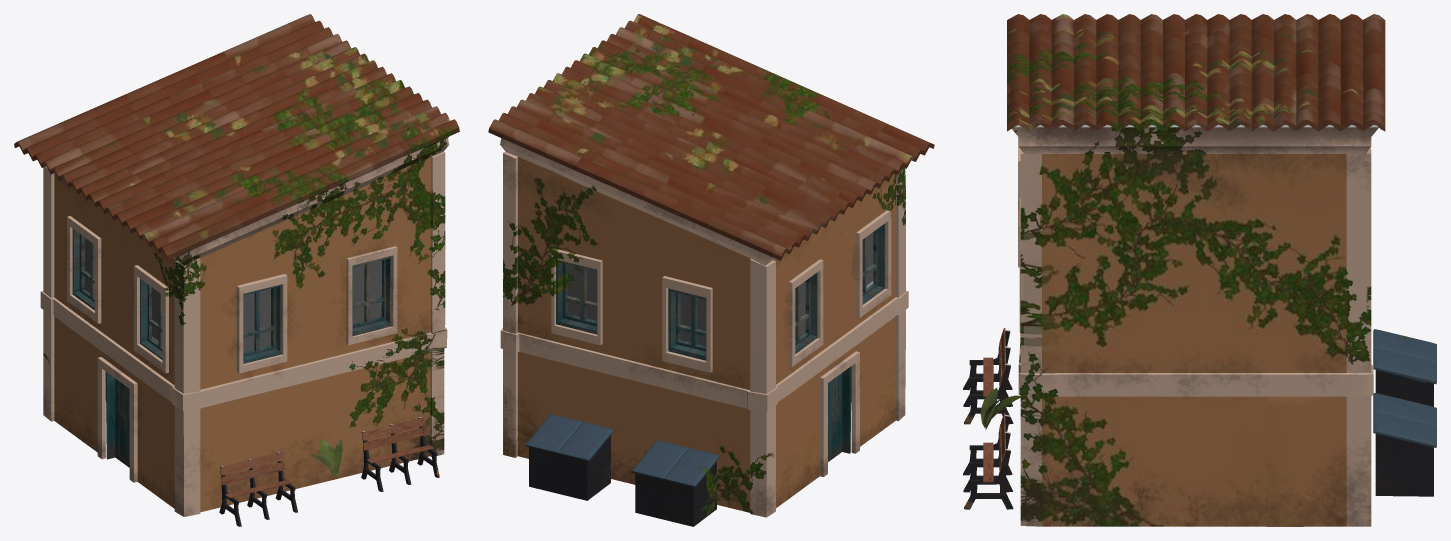
Rendered from z_col.glb.
3 views of the same model, side by side, from view 1: azimuth 30°, elevation 25°; view 2: azimuth 150°, elevation 25°; view 3: azimuth 270°, elevation 25° (orthographic). The views are drawn at different scales.
Parts seen in each view (by area): view 1: casa_parede_0, pCube52_telhados_0, casa_marmore_0, casa_marmore2_0, casa_azul_0, pCube34_chao_0, pCube25_pretos_0; view 2: casa_parede_0, pCube52_telhados_0, casa_marmore_0, casa_marmore2_0, pCube25_pretos_0, casa_azul_0; view 3: casa_parede_0, pCube52_telhados_0, casa_marmore_0, pCube25_pretos_0, casa_marmore2_0, pCube34_chao_0.
Part boxes in pixels (x1,y1,x2,y2): casa_parede_0: (54,157,431,512); pCube52_telhados_0: (14,14,459,259); casa_marmore_0: (40,151,447,516); casa_marmore2_0: (67,136,449,482); casa_azul_0: (72,229,392,467); pCube34_chao_0: (220,417,433,498); pCube25_pretos_0: (219,417,439,526); casa_parede_0: (518,157,895,512); pCube52_telhados_0: (488,14,934,260); casa_marmore_0: (500,151,908,517); casa_marmore2_0: (500,138,891,476); pCube25_pretos_0: (525,414,720,526); casa_azul_0: (556,223,885,461); casa_parede_0: (1042,154,1346,526); pCube52_telhados_0: (1007,14,1385,131); casa_marmore_0: (1018,149,1373,526); pCube25_pretos_0: (963,329,1436,509); casa_marmore2_0: (1012,127,1378,332); pCube34_chao_0: (980,328,1020,482).
Bounding box in the file's own units: 6.11 × 6.66 × 6.93.
8 materials, 7 textured.
